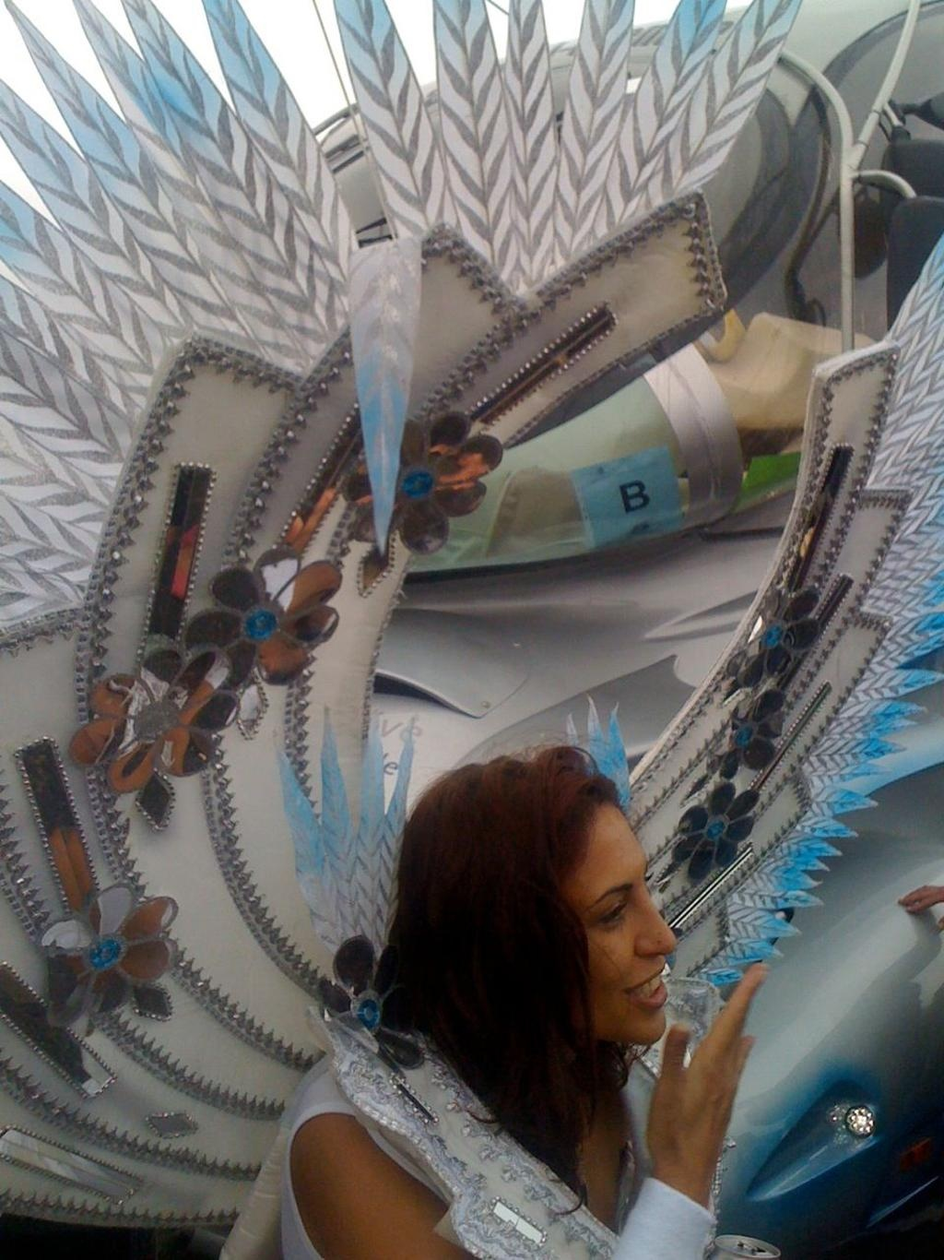human_face: (543, 804, 671, 1045)
